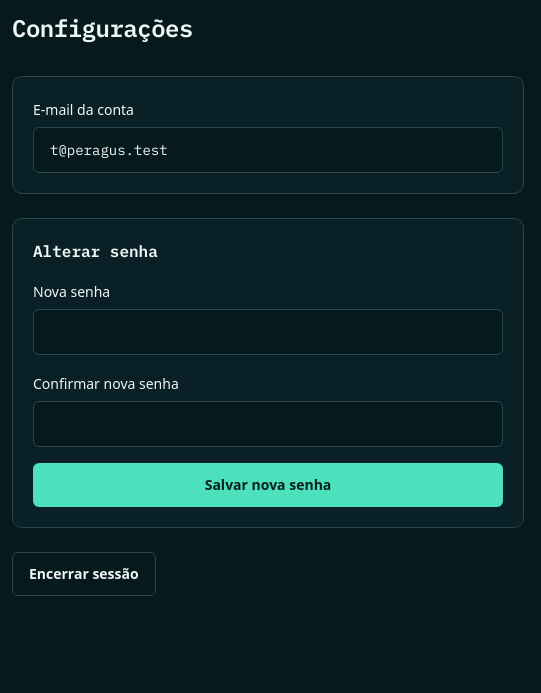
Test: Settings page › saves a valid password and shows success notice
The image size is (541, 693).
Type "validpass123" into the password field labelled "Nova senha" at [268, 332], box [33,309,503,355]
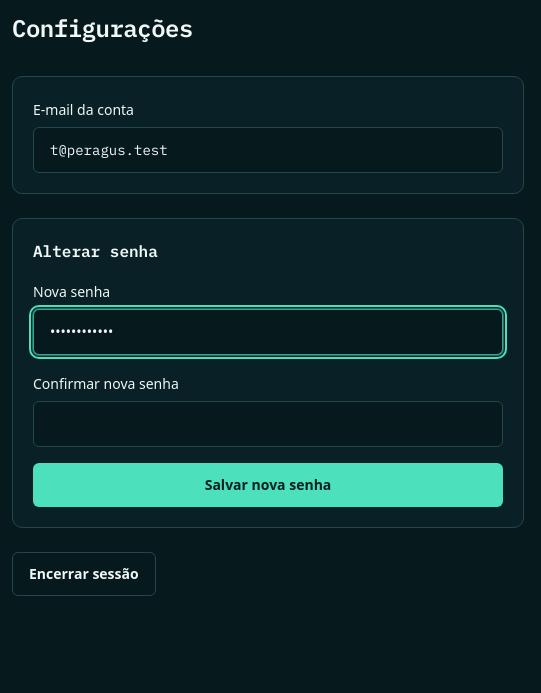
Type "validpass123" into the password field labelled "Confirmar nova senha" at [268, 424], box [33,401,503,447]
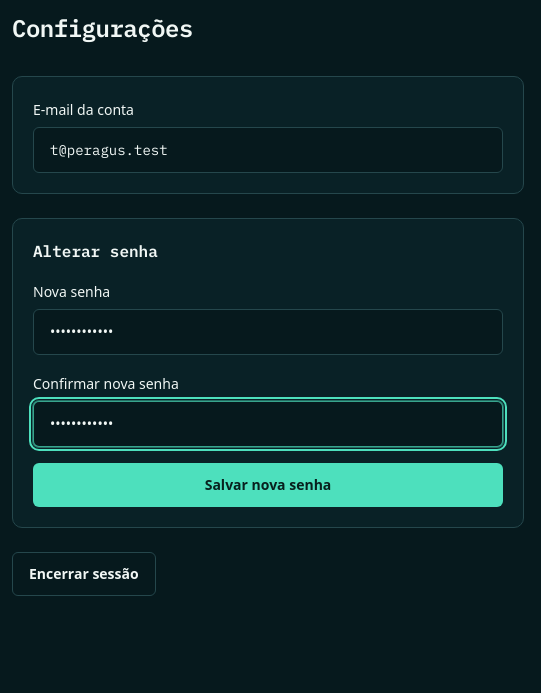
Click the button "Salvar nova senha" at [268, 485], box [33,463,503,507]
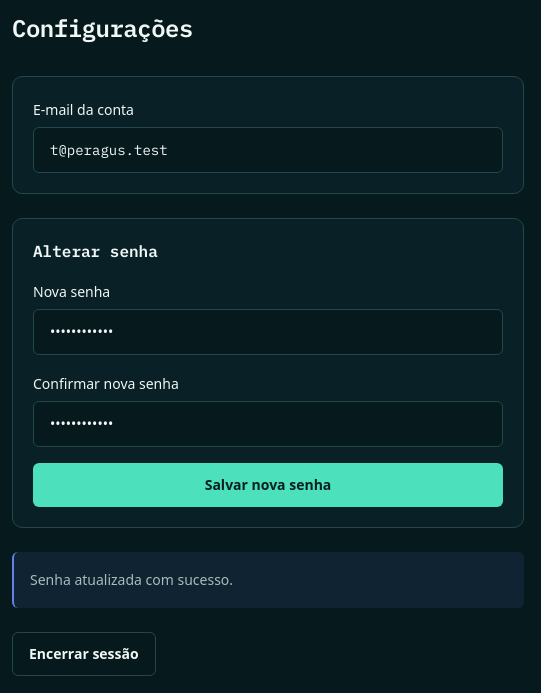
expect the text "Senha atualizada com sucesso." is shown: met, box [12,552,524,608]
